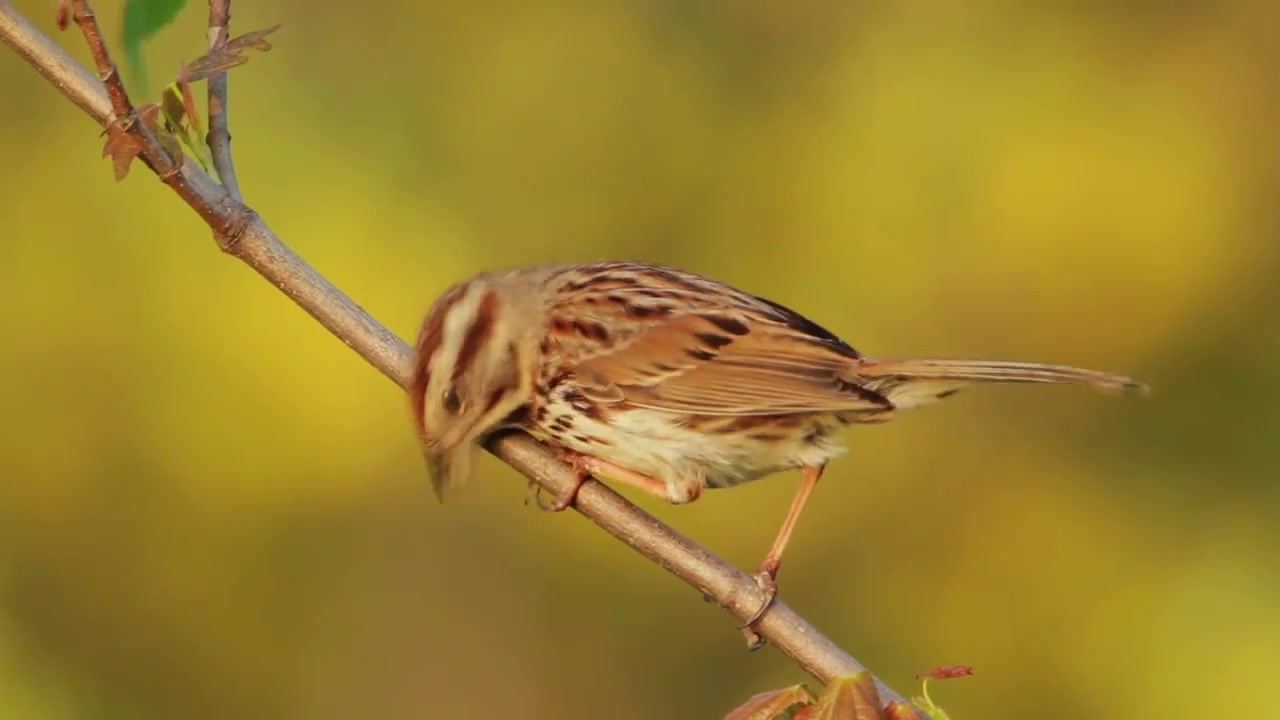bird: (411, 257, 1156, 653)
